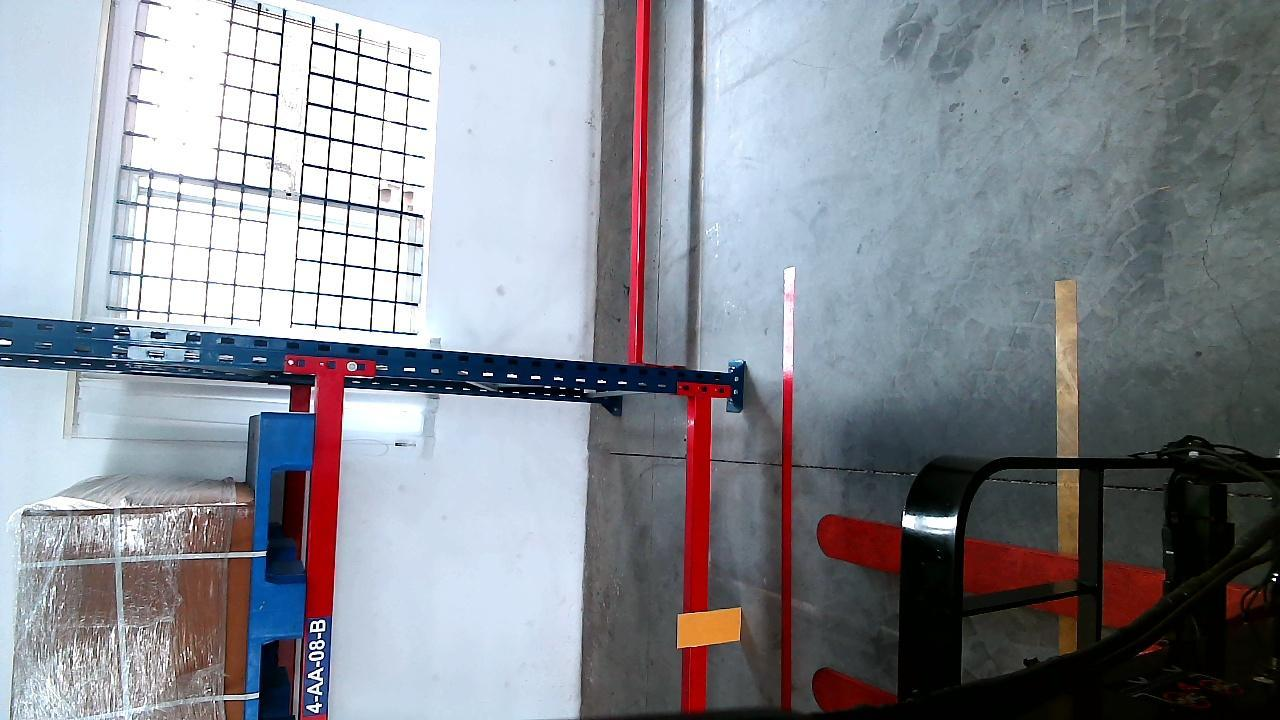red_line: (781, 263, 795, 712)
yellow_line: (1057, 273, 1078, 593)
